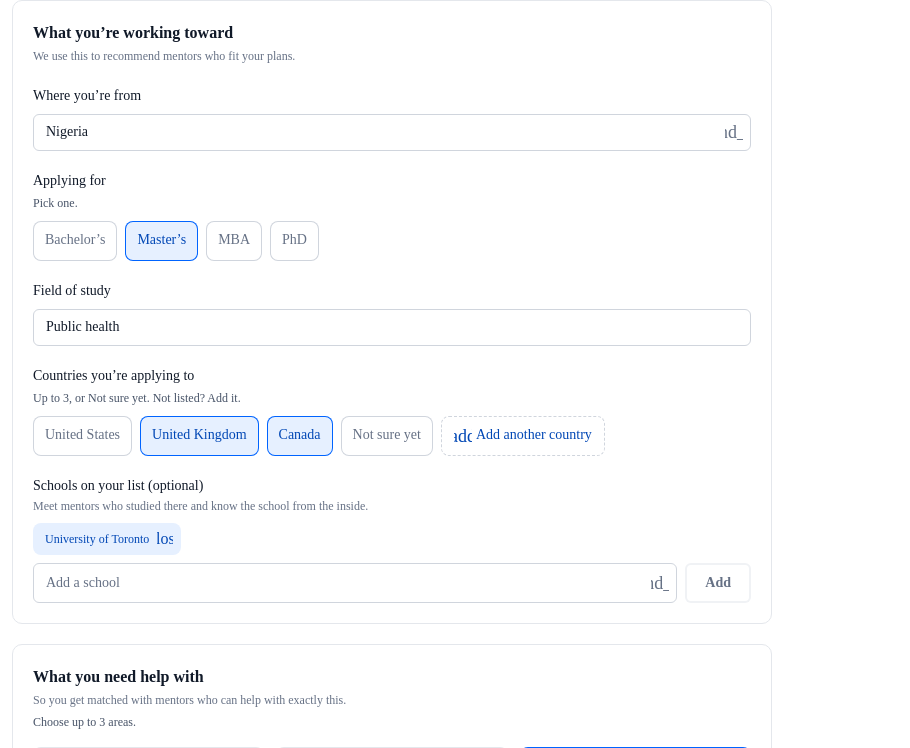
GoalsPanel › "Not sure yet" saves: no countries is never a gap, and the list goes as []
Click the button "Not sure yet": (387, 436) [340,416,433,456]
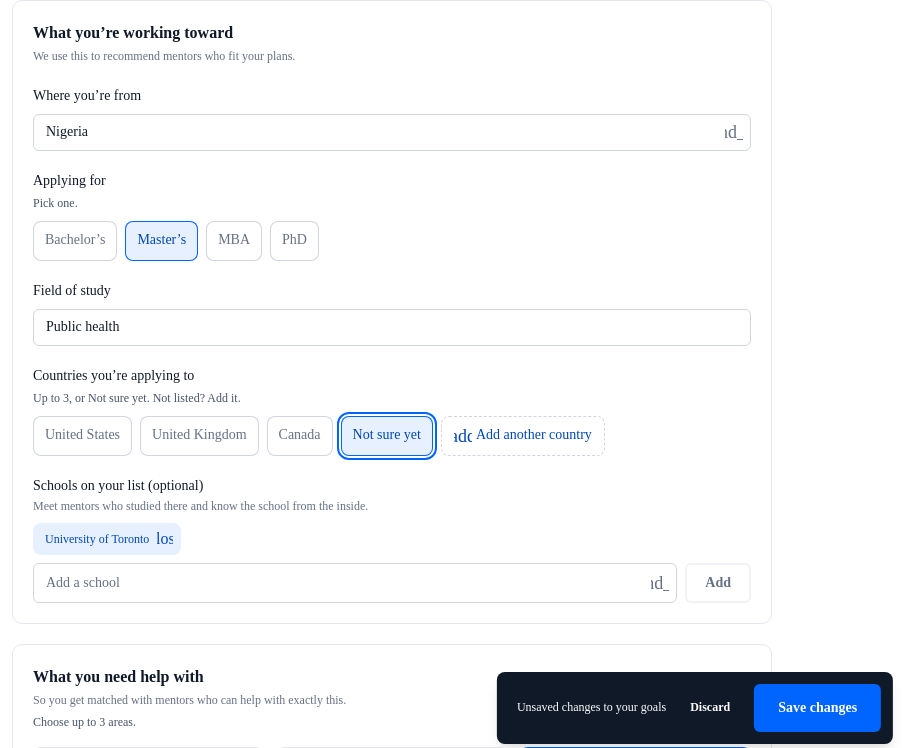
Click the button "Save changes": (818, 708) [754,684,881,732]
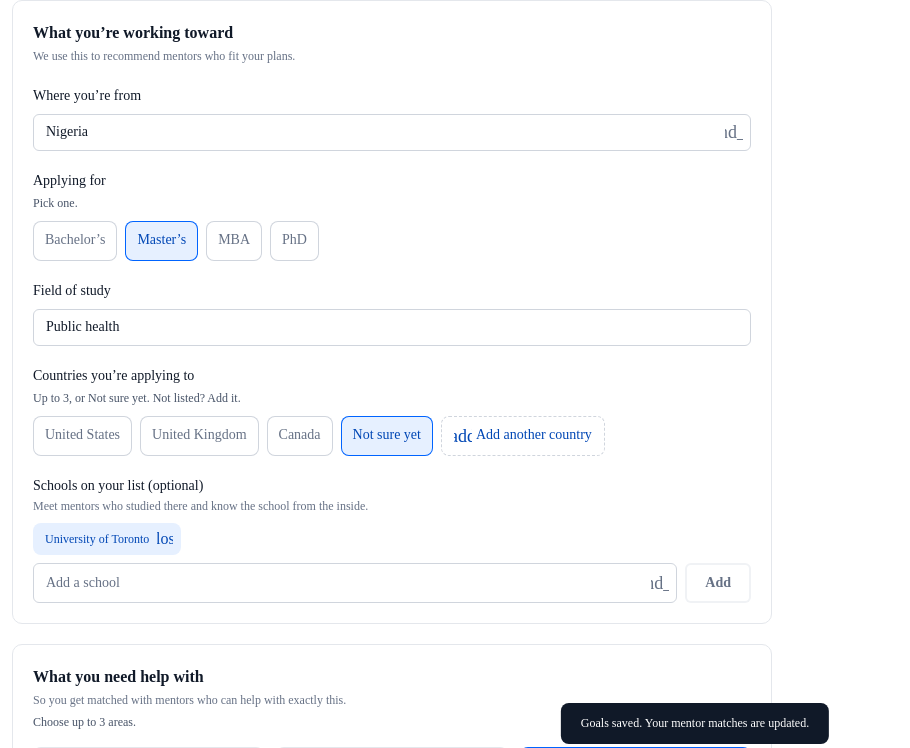
Result: the text "Goals saved. Your mentor matches are updated." is shown at [561,703,829,744]
